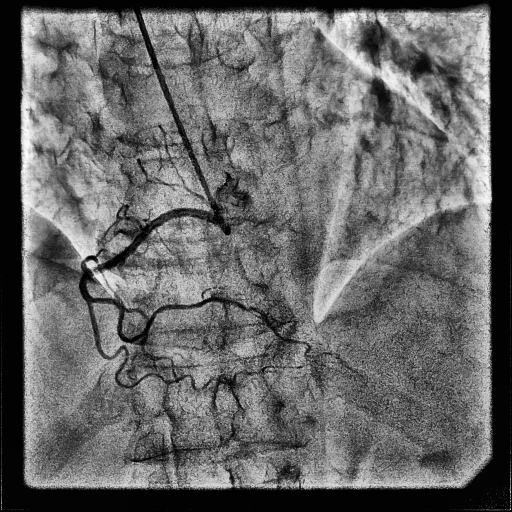pda: (205, 296, 340, 358)
rca: (80, 208, 213, 342)
